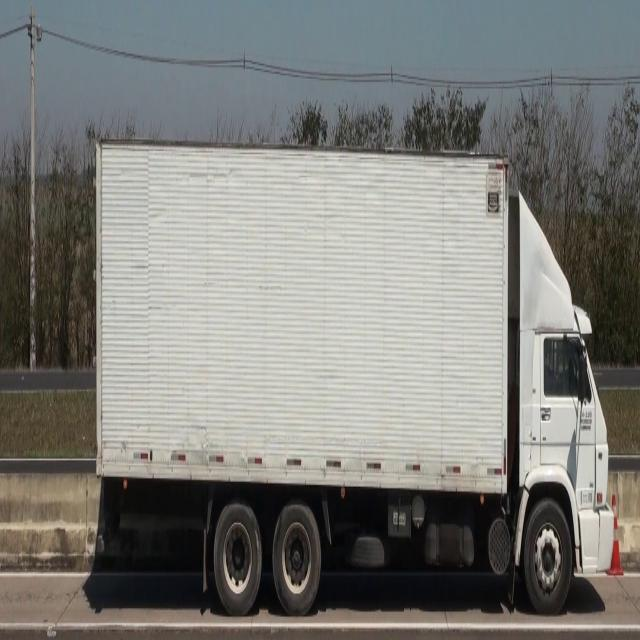-axle: (524, 504, 574, 609), (216, 505, 264, 610), (275, 505, 320, 611)
